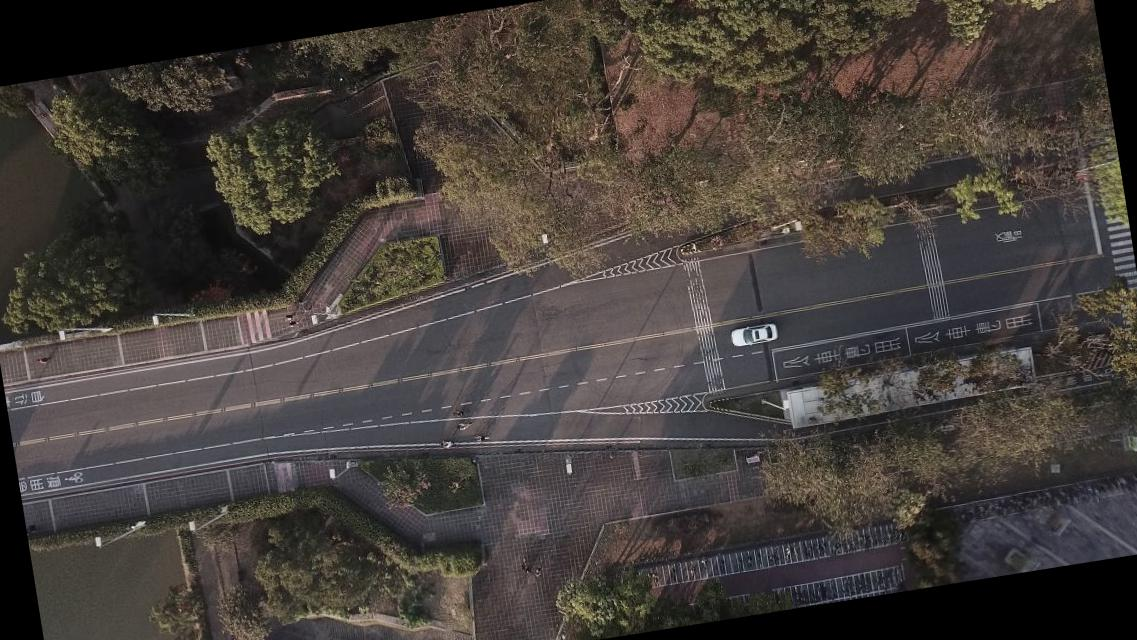vehicle: (729, 321, 779, 348)
